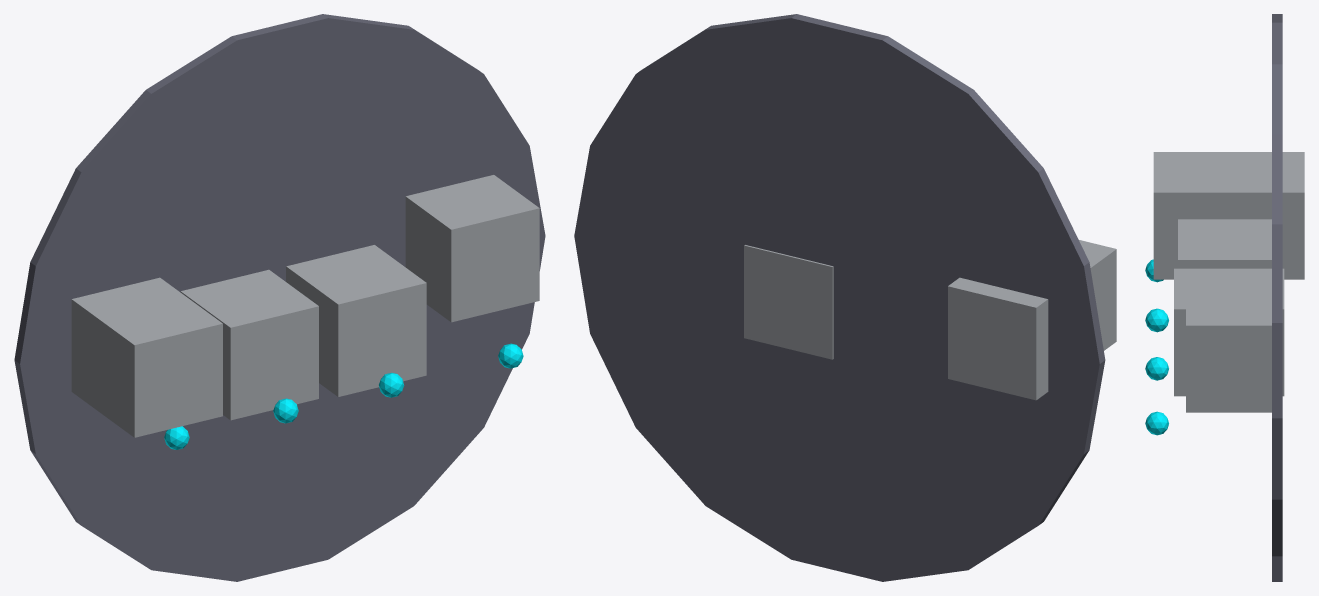
The model's file is 02_display_prop_cluster.glb.
3 views of the same model, side by side, from view 1: azimuth 30°, elevation 25°; view 2: azimuth 150°, elevation 25°; view 3: azimuth 270°, elevation 25° (orthographic). The views are drawn at different scales.
Parts seen in each view (by area): view 1: scatter_base, tech_crate_0, tech_crate_3, tech_crate_2, tech_crate_1; view 2: scatter_base, tech_crate_0, tech_crate_2; view 3: tech_crate_0, tech_crate_3, scatter_base, tech_crate_1, tech_crate_2, status_light_1, status_light_2, status_light_3.
Part boxes in pixels (<box>): scatter_base: <box>14,14,545,581</box>; tech_crate_0: <box>71,277,222,437</box>; tech_crate_3: <box>405,175,539,322</box>; tech_crate_2: <box>286,245,426,396</box>; tech_crate_1: <box>180,269,318,420</box>; scatter_base: <box>574,14,1105,581</box>; tech_crate_0: <box>948,240,1116,400</box>; tech_crate_2: <box>744,245,833,359</box>; tech_crate_0: <box>1153,152,1304,279</box>; tech_crate_3: <box>1186,285,1271,412</box>; scatter_base: <box>1272,14,1282,581</box>; tech_crate_1: <box>1178,219,1271,268</box>; tech_crate_2: <box>1174,268,1284,396</box>; status_light_1: <box>1145,308,1168,332</box>; status_light_2: <box>1145,357,1168,380</box>; status_light_3: <box>1145,411,1168,435</box>.
Size of the model in its own units: 1.9 by 1.87 by 0.5317.
